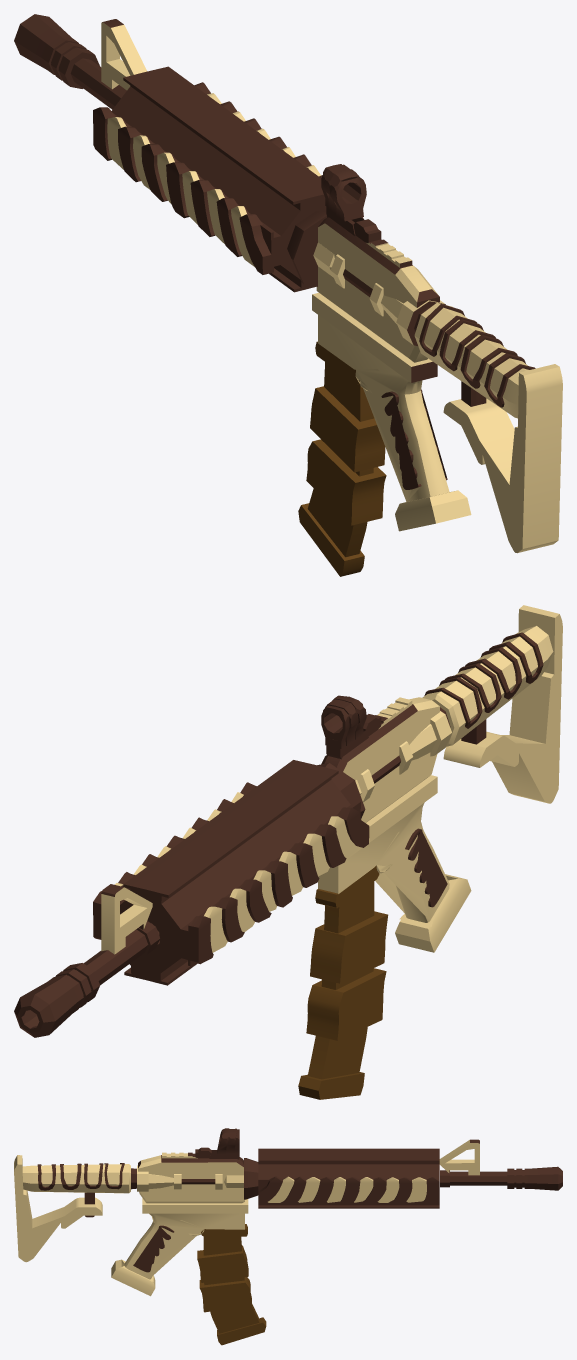
Rendered from Rifle .fbx.
3 views of the same model, one above another, from view 1: azimuth 30°, elevation 25°; view 2: azimuth 150°, elevation 25°; view 3: azimuth 270°, elevation 25° (orthographic). The views are drawn at different scales.
Parts seen in each view (by area): view 1: Cylinder; view 2: Cylinder; view 3: Cylinder.
Boxes of the visible parts, left/top/right/bottom form: Cylinder: left=14, top=14, right=562, bottom=576; Cylinder: left=14, top=605, right=562, bottom=1099; Cylinder: left=14, top=1128, right=562, bottom=1345.
Size of the model in its own units: 5.11 by 17.91 by 41.94.
